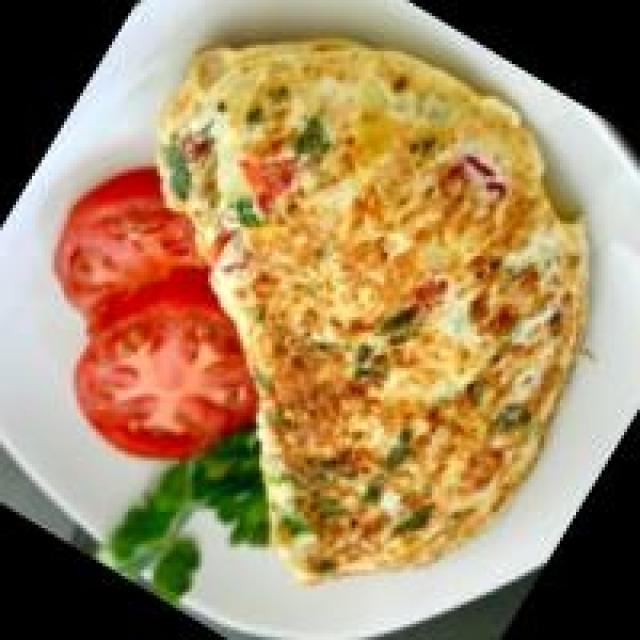telur_ayam_dadar: (157, 38, 592, 589)
